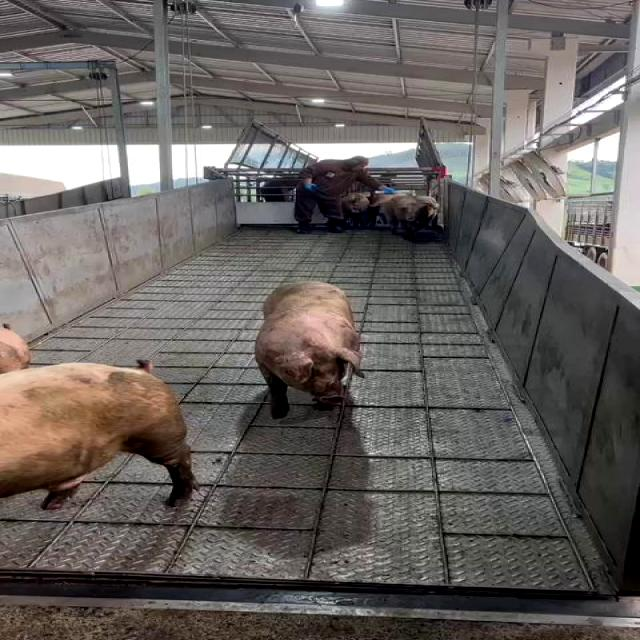pig: (0, 362, 197, 508), (254, 281, 364, 418)
